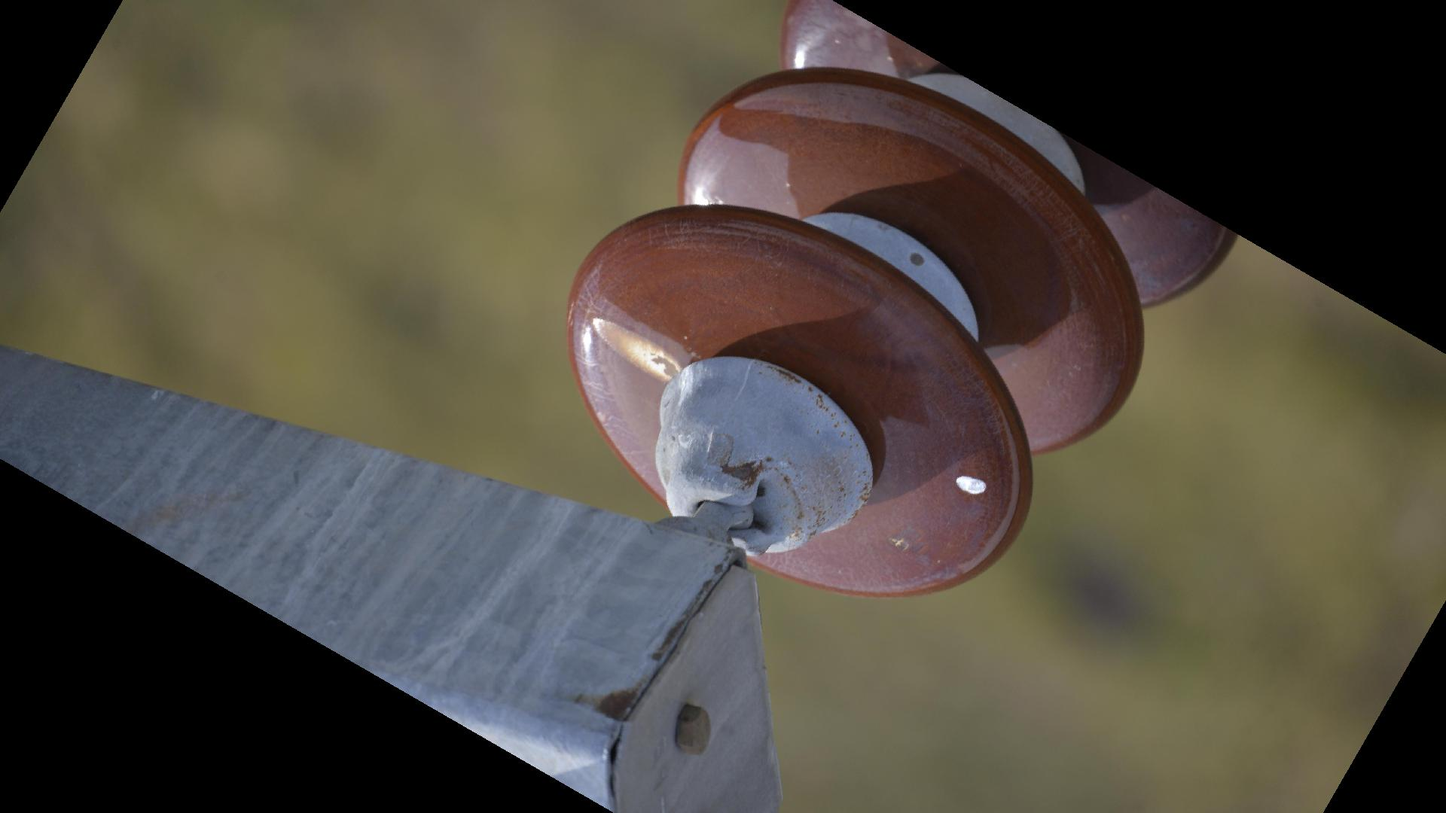insulator: (556, 1, 1240, 607)
insulator_flashover: (585, 310, 694, 385)
